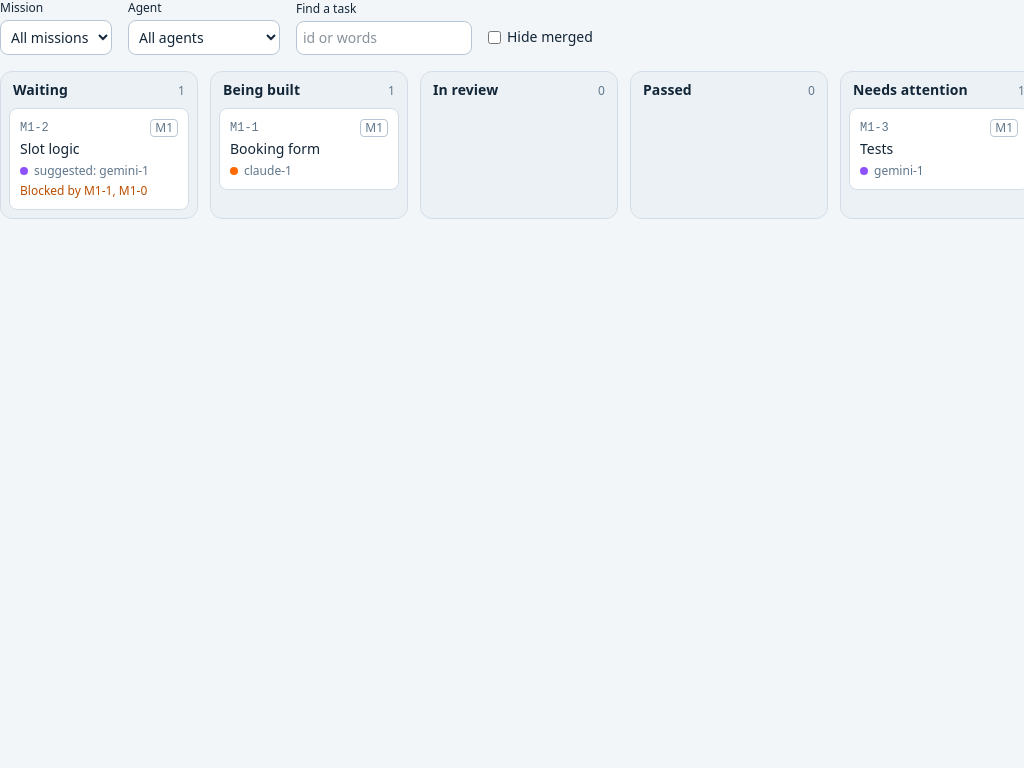
Scenario: a task opened from the board › shows the feed of the last run on it when nobody is working on it now
Step 1. Click the button "M1-1 M1 Booking form claude-1" → (309, 149), box [219,108,399,190]
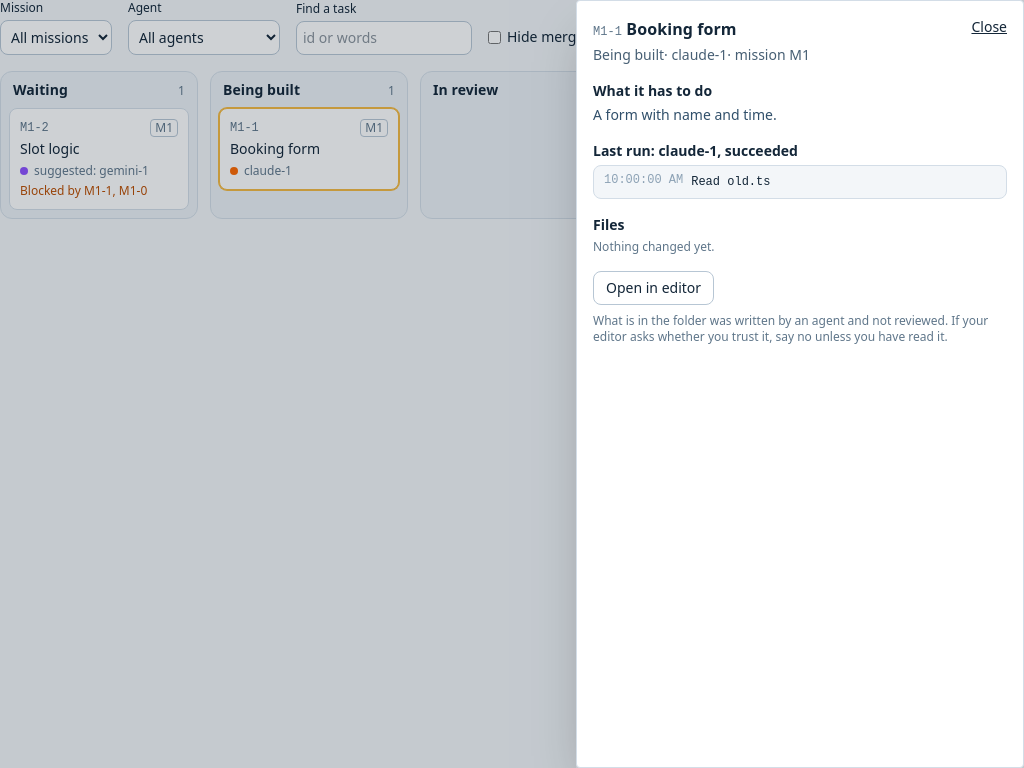
Check: the text "Read old.ts" is shown, box [691,172,770,192]
Check: the heading "Last run: claude-1, succeeded" is shown, box [593,141,798,160]
